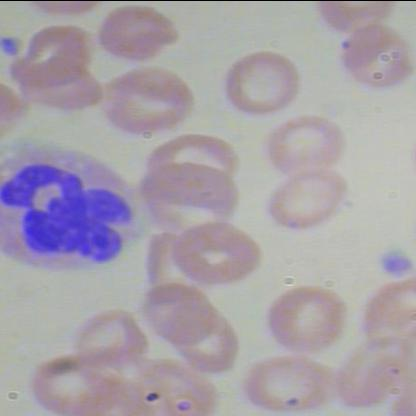Platelets: (377, 248, 415, 278), (0, 30, 27, 58)
RBC: (96, 63, 204, 136), (240, 344, 345, 416), (5, 21, 96, 95), (257, 286, 347, 358), (173, 218, 265, 287), (259, 168, 354, 233), (220, 46, 304, 114), (95, 1, 179, 65), (139, 282, 217, 350), (339, 23, 415, 91), (29, 352, 108, 416), (262, 118, 346, 176)
WBC: (0, 136, 146, 277)
